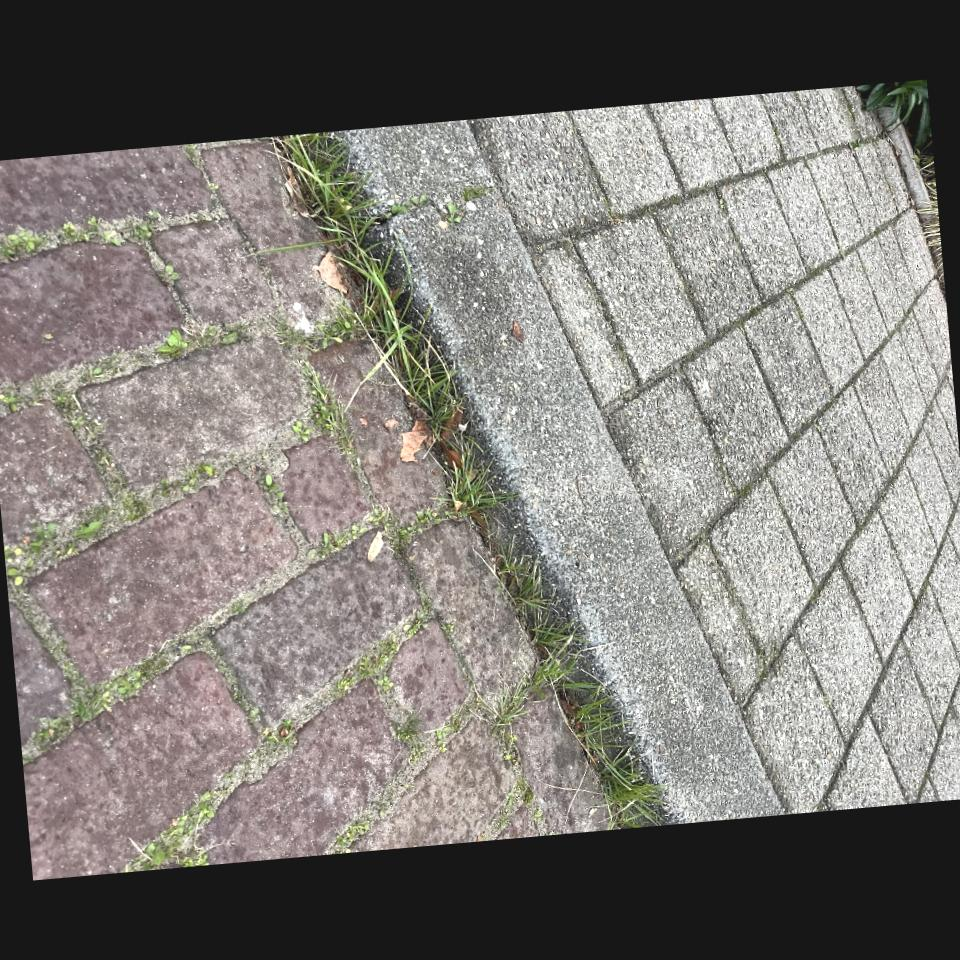weed: (275, 132, 462, 436), (501, 553, 669, 830), (353, 235, 510, 514), (22, 670, 142, 762), (126, 789, 231, 872), (0, 211, 167, 262), (328, 635, 402, 696), (307, 510, 387, 561), (392, 509, 441, 564), (450, 456, 495, 514), (492, 682, 530, 733)
